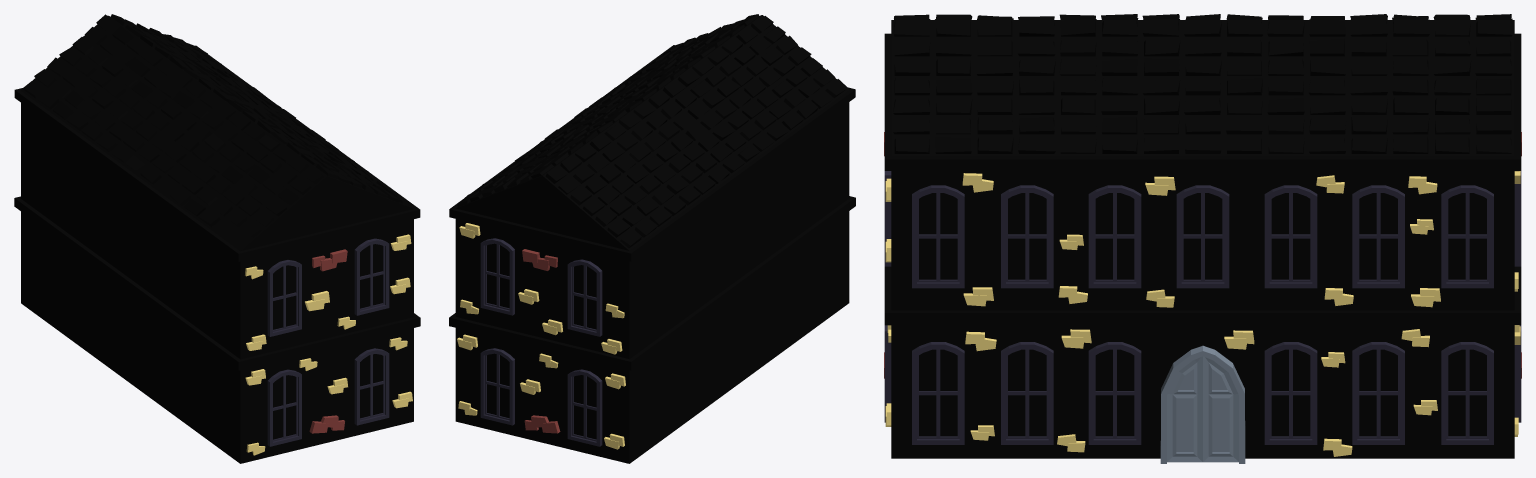
File: Zeremonie.fbx
3 renders of one model, left to right at view 1: azimuth 30°, elevation 25°; view 2: azimuth 150°, elevation 25°; view 3: azimuth 270°, elevation 25°, orthographic. The views are drawn at different scales.
Visible parts, largest first — view 1: Zeremoniehalle; view 2: Zeremoniehalle; view 3: Zeremoniehalle.
Boxes of the visible parts, box(x1,y1,x2,y2) form: Zeremoniehalle: box(14, 14, 420, 463); Zeremoniehalle: box(449, 14, 855, 463); Zeremoniehalle: box(884, 14, 1521, 463).
Bounding box in the file's own units: 1628 × 2257 × 3413.
